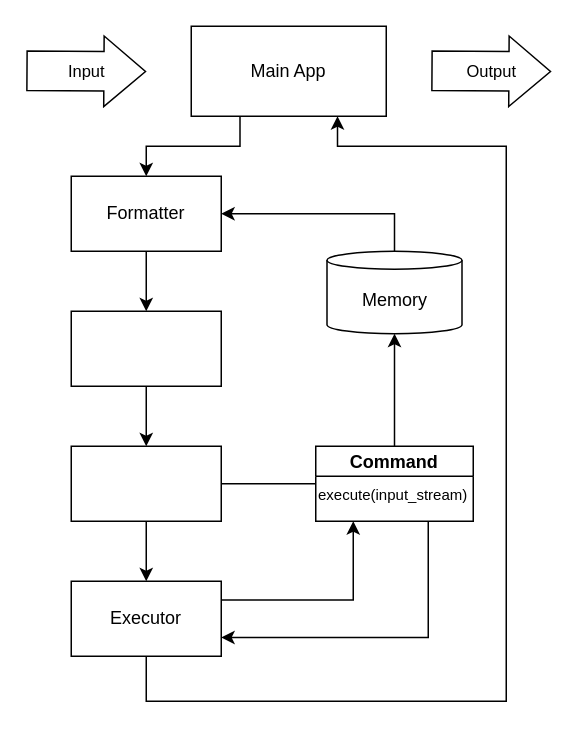
Image size: 578x740. Some labels were removed from this diagram. Here are the shapes that lost their labels. From the top down, the centre of each, then its label:
At (145,348): "Parser".
At (145,483): "Command Factory".
